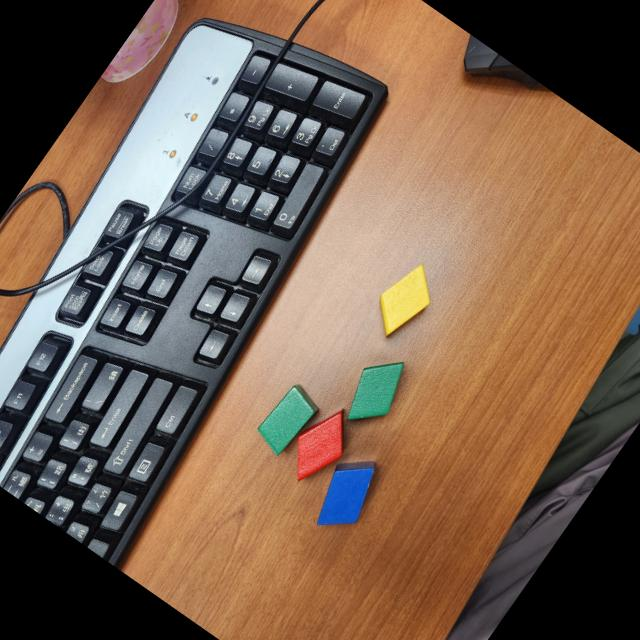blue: (300, 444, 391, 544)
green: (332, 344, 418, 437), (248, 378, 324, 462)
red: (274, 396, 364, 496)
yellow: (361, 255, 445, 346)
